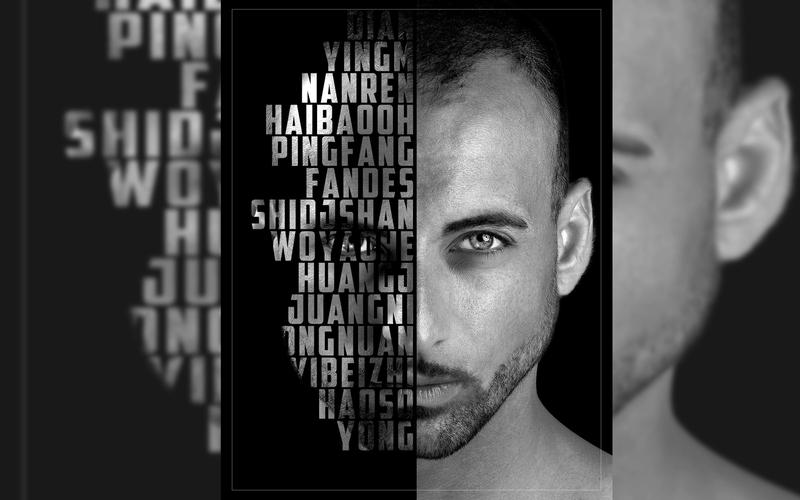nomask: (414, 50, 552, 444)
